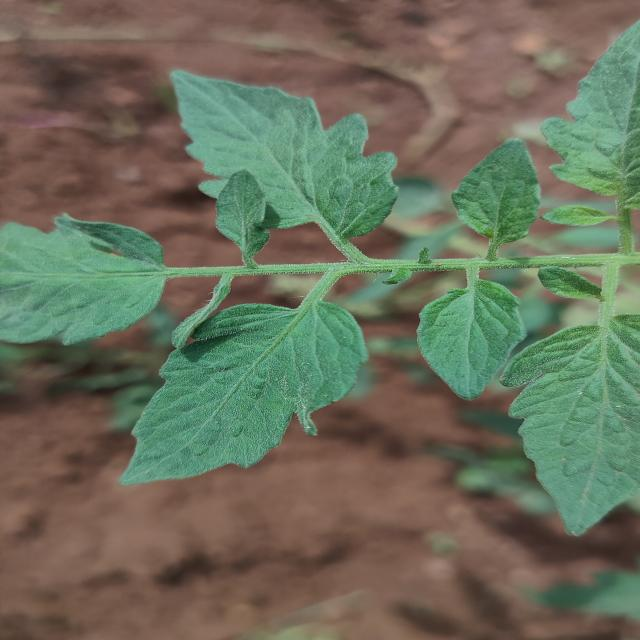tomato_healthy: (157, 62, 406, 251), (119, 301, 367, 485), (510, 302, 640, 522), (0, 216, 168, 344), (541, 17, 640, 205), (417, 268, 526, 400), (452, 138, 540, 260), (215, 170, 269, 267)
